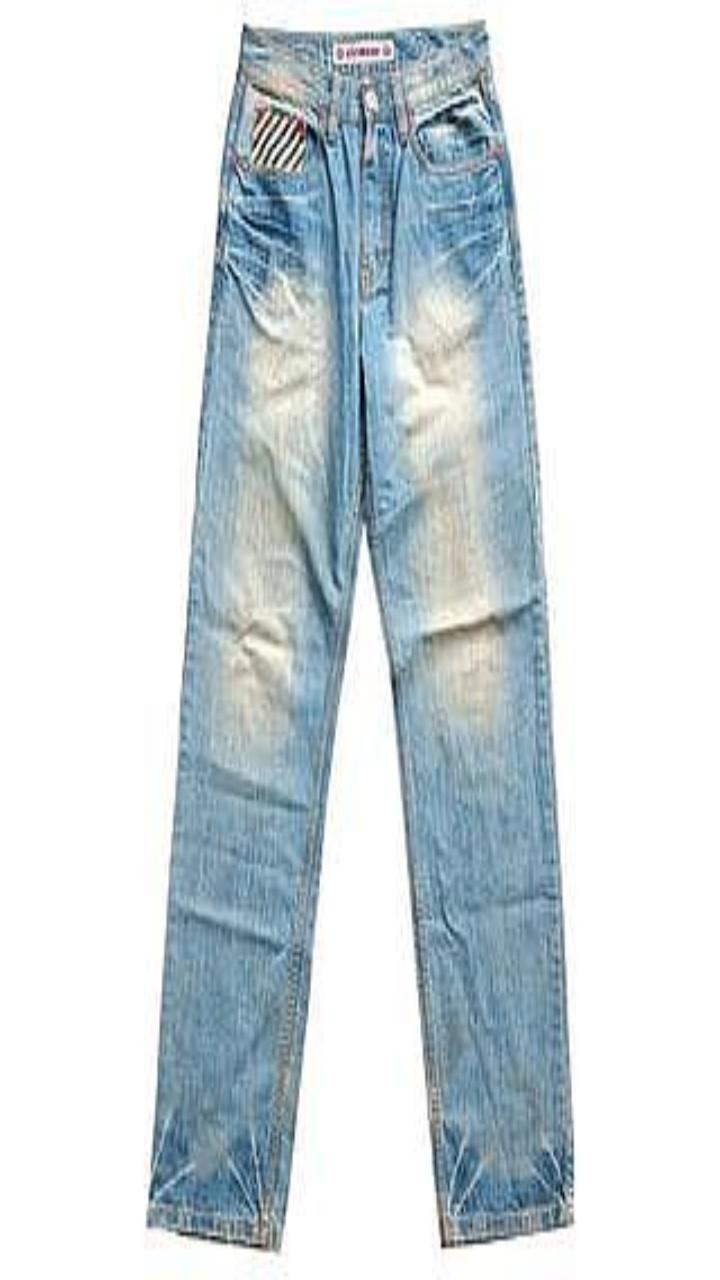Jeans: (148, 22, 571, 1248)
